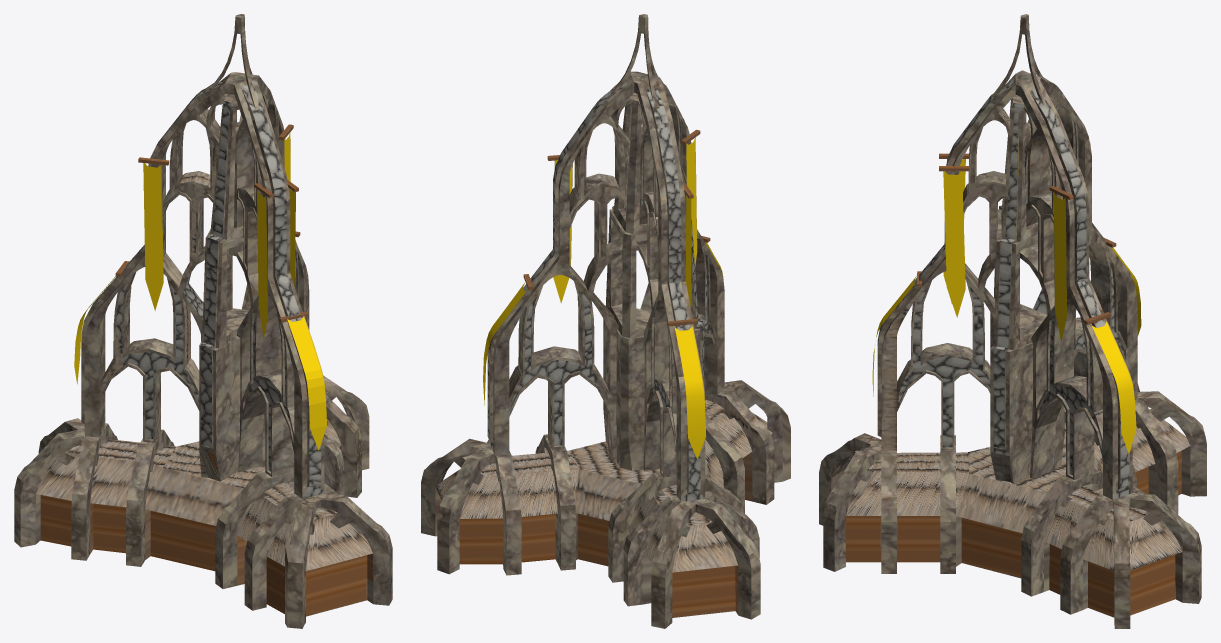
The model's file is Tower.fbx.
The picture shows the model from 3 angles, left to right: view 1: azimuth 30°, elevation 25°; view 2: azimuth 150°, elevation 25°; view 3: azimuth 270°, elevation 25°; orthographic projection.
Visible parts, largest first — view 1: Cube.009; view 2: Cube.009; view 3: Cube.009.
Part boxes in pixels (x1,y1,x2,y2): Cube.009: [14, 14, 392, 628]; Cube.009: [421, 14, 790, 628]; Cube.009: [819, 14, 1206, 628].
Bounding box in the file's own units: 139 × 204 × 136.
